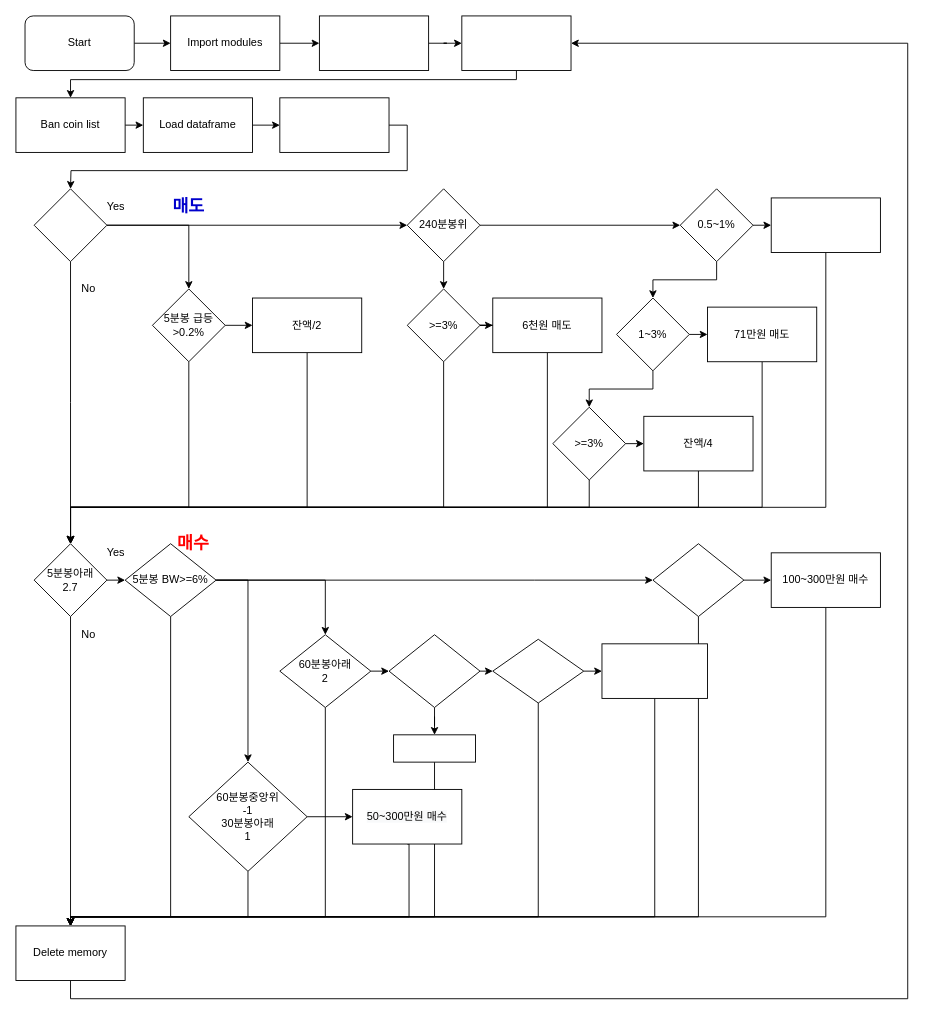
Image size: 931x1022. Some labels were removed from this diagram. The shapes that lost their labels are listed below. From the top down, each one's centre as x and y in pixels, then its label:
(373,43): Login Upbit using API
(516,43): Load my balances
(334,124): 계산
(70,225): 잔고?
(825,225): 10만원 매도
(698,580): 60분봉아래 3
(434,671): cnt=1?
(538,670): 5분봉아래 n=2
(654,670): 100~300만원 매수 cnt=0
(434,748): cnt=1
